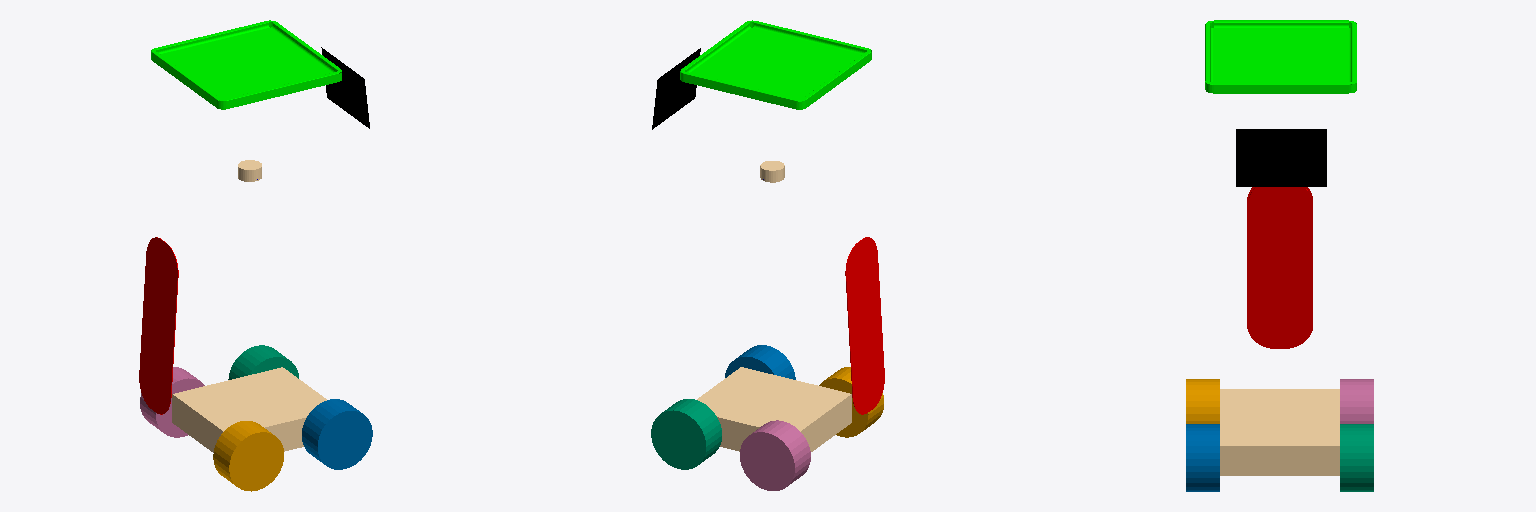
--- Facts derived from the render (not from the file) ---
The picture shows the robot from 3 angles, left to right: view 1: azimuth 30°, elevation 25°; view 2: azimuth 150°, elevation 25°; view 3: azimuth 270°, elevation 25°; orthographic projection.
Robot: cr2 — 16 links, 15 joints (4 continuous, 11 fixed); root link base_link; default pose: all joints at 0.
Visible links, largest first — view 1: tray, base_link, back_cover, wheel_RR_link, wheel_FR_link, monitor, wheel_RL_link, wheel_FL_link; view 2: tray, base_link, back_cover, wheel_RL_link, wheel_FL_link, monitor, wheel_RR_link, wheel_FR_link; view 3: tray, base_link, back_cover, monitor, wheel_RL_link, wheel_RR_link, wheel_FL_link, wheel_FR_link.
Boxes of the visible links, bbox=[...] form: tray: bbox=[151, 20, 341, 109]; base_link: bbox=[172, 367, 326, 452]; back_cover: bbox=[139, 237, 178, 414]; wheel_RR_link: bbox=[302, 399, 372, 469]; wheel_FR_link: bbox=[213, 421, 283, 491]; monitor: bbox=[321, 47, 369, 128]; wheel_RL_link: bbox=[228, 345, 298, 379]; wheel_FL_link: bbox=[140, 367, 204, 437]; tray: bbox=[680, 20, 871, 109]; base_link: bbox=[697, 367, 851, 451]; back_cover: bbox=[845, 237, 884, 414]; wheel_RL_link: bbox=[651, 399, 721, 469]; wheel_FL_link: bbox=[740, 420, 810, 490]; monitor: bbox=[652, 48, 700, 129]; wheel_RR_link: bbox=[725, 345, 795, 379]; wheel_FR_link: bbox=[819, 367, 883, 437]; tray: bbox=[1205, 20, 1356, 93]; base_link: bbox=[1220, 389, 1339, 475]; back_cover: bbox=[1247, 187, 1312, 348]; monitor: bbox=[1236, 129, 1326, 186]; wheel_RL_link: bbox=[1340, 424, 1373, 491]; wheel_RR_link: bbox=[1186, 424, 1219, 491]; wheel_FL_link: bbox=[1340, 379, 1373, 423]; wheel_FR_link: bbox=[1186, 379, 1219, 423].
Size in the robot's own frame: 0.7093 by 0.56 by 1.34 metres.
Meshes: 4 distinct files referenced, 2 mesh visuals loaded (2 binary STL); not drawn: 2 (reference not matched to a file when rendering).

robot.urdf — cr2:
<?xml version="1.0" ?>
<!-- =================================================================================== -->
<!-- |    This document was autogenerated by xacro from cr2.urdf.xacro                 | -->
<!-- |    EDITING THIS FILE BY HAND IS NOT RECOMMENDED                                 | -->
<!-- =================================================================================== -->
<robot name="cr2" xmlns:xacro="http://ros.org/wiki/xacro">
  <!-- weight of iPad mini 4 -->
  <!-- For performance purposes we temporary remove real geometry of wheels and put simple cylinders -->
  <link name="base_link">
    <visual>
      <origin rpy="1.57079632679 0 1.57079632679" xyz="0 0 0.1"/>
      <geometry>
        <box size="0.36 0.1 0.4"/>
      </geometry>
      <material name="navajo_white">
        <color rgba="1.0 0.87 0.68 1.0"/>
      </material>
    </visual>
    <collision>
      <origin rpy="1.57079632679 0 1.57079632679" xyz="0 0 0.1"/>
      <geometry>
        <box size="0.36 0.1 0.4"/>
      </geometry>
    </collision>
    <inertial>
      <origin rpy="1.57079632679 0 1.57079632679" xyz="0 0 0.1"/>
      <mass value="3"/>
      <inertia ixx="0.0425" ixy="0.0" ixz="0.0" iyy="0.0724" iyz="0.0" izz="0.0349"/>
    </inertial>
  </link>
  <link name="motor_holder_RL">
    <visual>
      <geometry>
        <cylinder length="0.025" radius="0.02"/>
      </geometry>
      <material name="blue">
        <color rgba="0.0 0.0 1.0 1.0"/>
      </material>
    </visual>
    <collision>
      <geometry>
        <cylinder length="0.025" radius="0.02"/>
      </geometry>
    </collision>
    <inertial>
      <mass value="0.088"/>
      <origin xyz="0 0 0"/>
      <inertia ixx="1.33833333333e-05" ixy="0.0" ixz="0.0" iyy="1.33833333333e-05" iyz="0.0" izz="1.76e-05"/>
    </inertial>
  </link>
  <joint name="motor_holder_base_RL_joint" type="fixed">
    <origin rpy="1.57079632679 0 0" xyz="0.16 0.1925 0.092"/>
    <parent link="base_link"/>
    <child link="motor_holder_RL"/>
  </joint>
  <link name="wheel_RL_link">
    <visual>
      <geometry>
        <cylinder length="0.1" radius="0.1"/>
      </geometry>
    </visual>
    <collision>
      <geometry>
        <cylinder length="0.1" radius="0.1"/>
      </geometry>
    </collision>
    <inertial>
      <mass value="0.1"/>
      <origin xyz="0 0 0"/>
      <inertia ixx="0.000333333333333" ixy="0.0" ixz="0.0" iyy="0.000333333333333" iyz="0.0" izz="0.0005"/>
    </inertial>
  </link>
  <joint name="wheel_motor_RL_joint" type="continuous">
    <origin rpy="0 0 0" xyz="0 0 -0.0375"/>
    <parent link="motor_holder_RL"/>
    <child link="wheel_RL_link"/>
    <axis xyz="0 0 1"/>
  </joint>
  <transmission name="wheel_transmission_RL">
    <type>transmission_interface/SimpleTransmission</type>
    <joint name="wheel_motor_RL_joint">
      <hardwareInterface>hardware_interface/VelocityJointInterface</hardwareInterface>
    </joint>
    <actuator name="wheel_motor_RL">
      <hardwareInterface>hardware_interface/VelocityJointInterface</hardwareInterface>
      <mechanicalReduction>131</mechanicalReduction>
      <motorTorqueConstant>4.4</motorTorqueConstant>
    </actuator>
  </transmission>
  <link name="motor_holder_RR">
            
    <visual>
      <geometry>
        <cylinder length="0.025" radius="0.02"/>
      </geometry>
      <material name="blue">
        <color rgba="0.0 0.0 1.0 1.0"/>
      </material>
    </visual>
    <collision>
      <geometry>
        <cylinder length="0.025" radius="0.02"/>
      </geometry>
    </collision>
    <inertial>
      <mass value="0.088"/>
      <origin xyz="0 0 0"/>
      <inertia ixx="1.33833333333e-05" ixy="0.0" ixz="0.0" iyy="1.33833333333e-05" iyz="0.0" izz="1.76e-05"/>
    </inertial>
  </link>
  <joint name="motor_holder_base_RR_joint" type="fixed">
    <origin rpy="1.57079632679 0 0" xyz="0.16 -0.1925 0.092"/>
    <parent link="base_link"/>
    <child link="motor_holder_RR"/>
  </joint>
  <link name="wheel_RR_link">
    <visual>
      <geometry>
        <cylinder length="0.1" radius="0.1"/>
      </geometry>
    </visual>
    <collision>
      <geometry>
        <cylinder length="0.1" radius="0.1"/>
      </geometry>
    </collision>
    <inertial>
      <mass value="0.1"/>
      <origin xyz="0 0 0"/>
      <inertia ixx="0.000333333333333" ixy="0.0" ixz="0.0" iyy="0.000333333333333" iyz="0.0" izz="0.0005"/>
    </inertial>
  </link>
  <joint name="wheel_motor_RR_joint" type="continuous">
    <origin rpy="0 0 0" xyz="0 0 0.0375"/>
    <parent link="motor_holder_RR"/>
    <child link="wheel_RR_link"/>
    <axis xyz="0 0 1"/>
  </joint>
  <transmission name="wheel_transmission_RR">
    <type>transmission_interface/SimpleTransmission</type>
    <joint name="wheel_motor_RR_joint">
      <hardwareInterface>hardware_interface/VelocityJointInterface</hardwareInterface>
    </joint>
    <actuator name="wheel_motor_RR">
      <hardwareInterface>hardware_interface/VelocityJointInterface</hardwareInterface>
      <mechanicalReduction>131</mechanicalReduction>
      <motorTorqueConstant>4.4</motorTorqueConstant>
    </actuator>
  </transmission>
  <link name="motor_holder_FL">
            
    <visual>
      <geometry>
        <cylinder length="0.025" radius="0.02"/>
      </geometry>
      <material name="blue">
        <color rgba="0.0 0.0 1.0 1.0"/>
      </material>
    </visual>
    <collision>
      <geometry>
        <cylinder length="0.025" radius="0.02"/>
      </geometry>
    </collision>
    <inertial>
      <mass value="0.088"/>
      <origin xyz="0 0 0"/>
      <inertia ixx="1.33833333333e-05" ixy="0.0" ixz="0.0" iyy="1.33833333333e-05" iyz="0.0" izz="1.76e-05"/>
    </inertial>
  </link>
  <joint name="motor_holder_base_FL_joint" type="fixed">
    <origin rpy="1.57079632679 0 0" xyz="-0.16 0.1925 0.092"/>
    <parent link="base_link"/>
    <child link="motor_holder_FL"/>
  </joint>
  <link name="wheel_FL_link">
    <visual>
      <geometry>
        <cylinder length="0.1" radius="0.1"/>
      </geometry>
    </visual>
    <collision>
      <geometry>
        <cylinder length="0.1" radius="0.1"/>
      </geometry>
    </collision>
    <inertial>
      <mass value="0.1"/>
      <origin xyz="0 0 0"/>
      <inertia ixx="0.000333333333333" ixy="0.0" ixz="0.0" iyy="0.000333333333333" iyz="0.0" izz="0.0005"/>
    </inertial>
  </link>
  <joint name="wheel_motor_FL_joint" type="continuous">
    <origin rpy="0 0 0" xyz="0 0 -0.0375"/>
    <parent link="motor_holder_FL"/>
    <child link="wheel_FL_link"/>
    <axis xyz="0 0 1"/>
  </joint>
  <transmission name="wheel_transmission_FL">
    <type>transmission_interface/SimpleTransmission</type>
    <joint name="wheel_motor_FL_joint">
      <hardwareInterface>hardware_interface/VelocityJointInterface</hardwareInterface>
    </joint>
    <actuator name="wheel_motor_FL">
      <hardwareInterface>hardware_interface/VelocityJointInterface</hardwareInterface>
      <mechanicalReduction>131</mechanicalReduction>
      <motorTorqueConstant>4.4</motorTorqueConstant>
    </actuator>
  </transmission>
  <link name="motor_holder_FR">
    &gt;
            
    <visual>
      <geometry>
        <cylinder length="0.025" radius="0.02"/>
      </geometry>
      <material name="blue">
        <color rgba="0.0 0.0 1.0 1.0"/>
      </material>
    </visual>
    <collision>
      <geometry>
        <cylinder length="0.025" radius="0.02"/>
      </geometry>
    </collision>
    <inertial>
      <mass value="0.088"/>
      <origin xyz="0 0 0"/>
      <inertia ixx="1.33833333333e-05" ixy="0.0" ixz="0.0" iyy="1.33833333333e-05" iyz="0.0" izz="1.76e-05"/>
    </inertial>
  </link>
  <joint name="motor_holder_base_FR_joint" type="fixed">
    <origin rpy="1.57079632679 0 0" xyz="-0.16 -0.1925 0.092"/>
    <parent link="base_link"/>
    <child link="motor_holder_FR"/>
  </joint>
  <link name="wheel_FR_link">
    <visual>
      <geometry>
        <cylinder length="0.1" radius="0.1"/>
      </geometry>
    </visual>
    <collision>
      <geometry>
        <cylinder length="0.1" radius="0.1"/>
      </geometry>
    </collision>
    <inertial>
      <mass value="0.1"/>
      <origin xyz="0 0 0"/>
      <inertia ixx="0.000333333333333" ixy="0.0" ixz="0.0" iyy="0.000333333333333" iyz="0.0" izz="0.0005"/>
    </inertial>
  </link>
  <joint name="wheel_motor_FR_joint" type="continuous">
    <origin rpy="0 0 0" xyz="0 0 0.0375"/>
    <parent link="motor_holder_FR"/>
    <child link="wheel_FR_link"/>
    <axis xyz="0 0 1"/>
  </joint>
  <transmission name="wheel_transmission_FR">
    <type>transmission_interface/SimpleTransmission</type>
    <joint name="wheel_motor_FR_joint">
      <hardwareInterface>hardware_interface/VelocityJointInterface</hardwareInterface>
    </joint>
    <actuator name="wheel_motor_FR">
      <hardwareInterface>hardware_interface/VelocityJointInterface</hardwareInterface>
      <mechanicalReduction>131</mechanicalReduction>
      <motorTorqueConstant>4.4</motorTorqueConstant>
    </actuator>
  </transmission>
  <joint name="body_link_joint" type="fixed">
    <origin rpy="1.57079632679 0 3.14159265359" xyz="0.39 -0.36 0.03"/>
    <parent link="base_link"/>
    <child link="body"/>
  </joint>
  <link name="body">
    <visual>
      <origin rpy="0 0 0" xyz="0 0 0"/>
      <geometry>
        <mesh filename="package://cr2_description/meshes/body.STL" scale="0.0015 0.0015 0.0015"/>
      </geometry>
      <material name="red">
        <color rgba="1.0 0.0 0.0 1.0"/>
      </material>
    </visual>
    <collision>
      <origin rpy="0 0 0" xyz="0 0 0"/>
      <geometry>
        <mesh filename="package://cr2_description/meshes/body.STL" scale="0.0015 0.0015 0.0015"/>
      </geometry>
    </collision>
    <inertial>
      <origin rpy="0 1.57079632679 0" xyz="0.331 0.448 0.406"/>
      <mass value="3"/>
      <inertia ixx="0.34208" ixy="0.0" ixz="0.0" iyy="0.250937" iyz="0.0" izz="0.310265"/>
    </inertial>
  </link>
  <link name="back_cover">
    <visual>
      <origin rpy="0 0 0" xyz="0 0 0"/>
      <geometry>
        <mesh filename="package://cr2_description/meshes/back_cover.stl" scale="0.0015 0.0015 0.0015"/>
      </geometry>
      <material name="red">
        <color rgba="1.0 0.0 0.0 1.0"/>
      </material>
    </visual>
    <collision>
      <origin rpy="0 0 0" xyz="0 0 0"/>
      <geometry>
        <mesh filename="package://cr2_description/meshes/back_cover.stl" scale="0.0015 0.0015 0.0015"/>
      </geometry>
    </collision>
    <inertial>
      <origin rpy="0 0 0" xyz="0 0 0"/>
      <mass value="0.2"/>
      <inertia ixx="0.0" ixy="0.0" ixz="0.0" iyy="0.0" iyz="0.0" izz="0.0"/>
    </inertial>
  </link>
  <joint name="back_cover_joint" type="fixed">
    <origin rpy="0 1.57079632679 0.06092665" xyz="0.77 0 0.705"/>
    <parent link="body"/>
    <child link="back_cover"/>
  </joint>
  <link name="head">
    <visual>
      <origin rpy="0 0 0" xyz="0 0 0"/>
      <geometry>
        <mesh filename="package://cr2_description/meshes/head.STL" scale="0.0015 0.0015 0.0015"/>
      </geometry>
      <material name="green">
        <color rgba="0.0 1.0 0.0 1.0"/>
      </material>
    </visual>
    <collision>
      <origin rpy="0 0 0" xyz="0 0 0"/>
      <geometry>
        <mesh filename="package://cr2_description/meshes/head.STL" scale="0.0015 0.0015 0.0015"/>
      </geometry>
    </collision>
    <inertial>
      <origin rpy="0 0 0" xyz="0 0 0"/>
      <mass value="1"/>
      <inertia ixx="0.0505788333333" ixy="0.0" ixz="0.0" iyy="0.0659055" iyz="0.0" izz="0.0405468333333"/>
    </inertial>
  </link>
  <joint name="head_link_joint" type="fixed">
    <origin rpy="0 0 0" xyz="0.043 0.025 0.04"/>
    <parent link="body"/>
    <child link="head"/>
  </joint>
  <link name="tray">
    <visual>
      <origin rpy="0 0 0" xyz="0 0 0"/>
      <geometry>
        <mesh filename="package://cr2_description/meshes/tray.stl" scale="0.0015 0.0015 0.0015"/>
      </geometry>
      <material name="green">
        <color rgba="0.0 1.0 0.0 1.0"/>
      </material>
    </visual>
    <collision>
      <origin rpy="0 0 0" xyz="0 0 0"/>
      <geometry>
        <mesh filename="package://cr2_description/meshes/tray.stl" scale="0.0015 0.0015 0.0015"/>
      </geometry>
    </collision>
    <inertial>
      <origin rpy="0 0 0" xyz="0 0 0"/>
      <mass value="0.1"/>
      <inertia ixx="0.00168750833333" ixy="0.0" ixz="0.0" iyy="0.00336001666667" iyz="0.0" izz="0.00168750833333"/>
    </inertial>
  </link>
  <joint name="tray_joint" type="fixed">
    <origin rpy="0 0 0" xyz="0.725 1.25 0.665"/>
    <parent link="head"/>
    <child link="tray"/>
  </joint>
  <link name="monitor">
    <visual>
      <origin rpy="0 0 0" xyz="0 0 0"/>
      <geometry>
        <box size="0.18 0.001 0.27"/>
      </geometry>
      <material name="black">
        <color rgba="0.0 0.0 0.0 1.0"/>
      </material>
    </visual>
    <collision>
      <origin rpy="0 0 0" xyz="0 0 0"/>
      <geometry>
        <box size="0.18 0.001 0.27"/>
      </geometry>
    </collision>
    <inertial>
      <origin rpy="0 0 0" xyz="0 0 0"/>
      <mass value="0.295"/>
      <inertia ixx="0.00179214958333" ixy="0.0" ixz="0.0" iyy="0.002588625" iyz="0.0" izz="0.000796524583333"/>
    </inertial>
  </link>
  <joint name="monitor_joint" type="fixed">
    <origin rpy="0 0 1.45772297679" xyz="0.02 1.1 0.325"/>
    <parent link="head"/>
    <child link="monitor"/>
  </joint>
  <!--<xacro:pillar parent_link_name="body" position="FRONT_RIGHT" x="0.13" y="0.9032" z="0.12"/>-->
  <!--<xacro:pillar parent_link_name="body" position="RIGHT_SIDE" x="0.68"  y="0.9032" z="0.12"/>-->
  <!--<xacro:pillar parent_link_name="body" position="SIDE_LEFT"  x="0.68"     y="0.9032" z="0.61"/>-->
  <!--<xacro:pillar parent_link_name="body" position="LEFT_FRONT" x="0.13"     y="0.9032" z="0.61"/>-->
  <link name="laser_link">
    <visual>
      <geometry>
        <cylinder length="0.041" radius="0.038"/>
      </geometry>
      <material name="navajo_white">
        <color rgba="1.0 0.87 0.68 1.0"/>
      </material>
    </visual>
    <collision>
      <geometry>
        <cylinder length="0.041" radius="0.038"/>
      </geometry>
    </collision>
    <inertial>
      <mass value="0.019"/>
      <origin xyz="0 0 0"/>
      <inertia ixx="9.52058333333e-06" ixy="0.0" ixz="0.0" iyy="9.52058333333e-06" iyz="0.0" izz="1.3718e-05"/>
    </inertial>
  </link>
  <joint name="laser_base_joint" type="fixed">
    <origin rpy="1.57079632679 0 0" xyz="0.367 0.895 0.325"/>
    <parent link="head"/>
    <child link="laser_link"/>
  </joint>
  <link name="laser_oscillator">
    <visual>
      <geometry>
        <cylinder length="0.001" radius="0.038"/>
      </geometry>
      <material name="blue">
        <color rgba="0.0 0.0 1.0 1.0"/>
      </material>
    </visual>
    <collision>
      <geometry>
        <cylinder length="0.001" radius="0.038"/>
      </geometry>
    </collision>
    <inertial>
      <mass value="0.001"/>
      <origin xyz="0 0 0"/>
      <inertia ixx="3.61083333333e-07" ixy="0.0" ixz="0.0" iyy="3.61083333333e-07" iyz="0.0" izz="7.22e-07"/>
    </inertial>
  </link>
  <joint name="laser_oscillator_joint" type="fixed">
    <origin rpy="0 0 0" xyz="0 0 0.0155"/>
    <parent link="laser_link"/>
    <child link="laser_oscillator"/>
  </joint>
  <gazebo reference="laser_oscillator">
    <material>Gazebo/Green</material>
    <sensor name="laser" type="ray">
      <pose>0 0 0 0 0 0</pose>
      <visualize>false</visualize>
      <update_rate>40</update_rate>
      <ray>
        <scan>
          <horizontal>
            <!--TODO: figureout exact samples for RPLIDAR A2-->
            <samples>1081</samples>
            <resolution>1</resolution>
            <min_angle>0</min_angle>
            <max_angle>6.283185</max_angle>
          </horizontal>
        </scan>
        <range>
          <!--TODO: figureout exact min/max for RPLIDAR A2-->
          <min>0.15</min>
          <max>3.0</max>
          <!--for this dist is configured navigator-->
          <resolution>0.01</resolution>
        </range>
        <noise>
          <type>gaussian</type>
          <mean>0.0</mean>
          <stddev>0.01</stddev>
        </noise>
      </ray>
      <plugin filename="libgazebo_ros_laser.so" name="gazebo_ros_rplidar_controller">
        <!--<topicName>laser/scan</topicName>-->
        <topicName>front/scan</topicName>
        <frameName>laser_oscillator</frameName>
        <!--<frameName>front_laser</frameName>-->
      </plugin>
    </sensor>
  </gazebo>
  <!---->
  <!---->
  <!---->
  <!--ULTRASONIC-->
  <!--<xacro:ultrasonic parent_link_name="body" position="FRONT_TOP"              roll="0"              x="0.1"   y="${ultrasonic_top_margin}            " z="0.361"/>-->
  <!--<xacro:ultrasonic parent_link_name="body" position="FRONT_BOTTOM"           roll="0"              x="0.025" y="${ultrasonic_bottom_margin}         " z="0.361"/>-->
  <!--<xacro:ultrasonic parent_link_name="body" position="FRONT_BOTTOM_RIGHT"     roll="${pi + pi/1.3}" x="0.033" y="${ultrasonic_bottom_margin - 0.003} " z="0.054"/>-->
  <!--<xacro:ultrasonic parent_link_name="body" position="FRONT_BOTTOM_LEFT"      roll="${pi/4}"        x="0.035" y="${ultrasonic_bottom_margin}         " z="0.67" />-->
  <!--<xacro:ultrasonic parent_link_name="body" position="RIGHT_TOP"              roll="${pi + pi/2}"   x="0.374" y="${ultrasonic_top_margin}            " z="0.075"/>-->
  <!--<xacro:ultrasonic parent_link_name="body" position="RIGHT_BOTTOM"           roll="${pi + pi/2}"   x="0.407" y="${ultrasonic_bottom_margin  - 0.002}" z="0.035"/>-->
  <!--<xacro:ultrasonic parent_link_name="body" position="RIGHT_BOTTOM_SIDE"      roll="${pi/1.3}"      x="0.735" y="${ultrasonic_bottom_margin - 0.002} " z="0.675"/>-->
  <!--<xacro:ultrasonic parent_link_name="body" position="SIDE_TOP"               roll="${pi}"          x="0.71"  y="${ultrasonic_top_margin + 0.012}    " z="0.36" />-->
  <!--<xacro:ultrasonic parent_link_name="body" position="SIDE_BOTTOM"            roll="${pi}"          x="0.75"  y="${ultrasonic_bottom_margin}         " z="0.363"/>-->
  <!--<xacro:ultrasonic parent_link_name="body" position="SIDE_BOTTOM_LEFT"       roll="${pi + pi/4}"   x="0.732" y="${ultrasonic_bottom_margin + 0.006} " z="0.055"/>-->
  <!--<xacro:ultrasonic parent_link_name="body" position="LEFT_TOP"               roll="${pi/2}"        x="0.372" y="${ultrasonic_top_margin}            " z="0.65" />-->
  <!--<xacro:ultrasonic parent_link_name="body" position="LEFT_BOTTOM"            roll="${pi/2}"        x="0.407" y="${ultrasonic_bottom_margin}         " z="0.685"/>-->
  <!---->
  <!---->
  <!---->
  <!--RANGE SENSOR-->
  <!--<xacro:range_sensor parent_link_name="head" position="FRONT_FIRST"          roll="0"              x="0.13"  y="${range_sensor_margin}         " z="0.5"/>-->
  <!--<xacro:range_sensor parent_link_name="head" position="FRONT_SECOND"         roll="0"              x="0.13"  y="${range_sensor_margin}         " z="0.325"/>-->
  <!--<xacro:range_sensor parent_link_name="head" position="FRONT_THIRD"          roll="0"              x="0.13"  y="${range_sensor_margin}         " z="0.15"/>-->
  <!--<xacro:range_sensor parent_link_name="head" position="RIGHT_FIRST"          roll="${pi/2}"        x="0.2"   y="${range_sensor_margin}         " z="0.075"/>-->
  <!--<xacro:range_sensor parent_link_name="head" position="RIGHT_SECOND"         roll="${pi/2}"        x="0.38"  y="${range_sensor_margin}         " z="0.075"/>-->
  <!--<xacro:range_sensor parent_link_name="head" position="RIGHT_THIRD"          roll="${pi/2}"        x="0.55"  y="${range_sensor_margin}         " z="0.075"/>-->
  <!--<xacro:range_sensor parent_link_name="head" position="SIDE_FIRST"           roll="0"              x="0.63"  y="${range_sensor_margin}         " z="0.5"/>-->
  <!--<xacro:range_sensor parent_link_name="head" position="SIDE_SECOND"          roll="0"              x="0.63"  y="${range_sensor_margin}         " z="0.325"/>-->
  <!--<xacro:range_sensor parent_link_name="head" position="SIDE_THIRD"           roll="0"              x="0.63"  y="${range_sensor_margin}         " z="0.15"/>-->
  <!--<xacro:range_sensor parent_link_name="head" position="LEFT_FIRST"           roll="${pi/2}"        x="0.2"   y="${range_sensor_margin}         " z="0.572"/>-->
  <!--<xacro:range_sensor parent_link_name="head" position="LEFT_SECOND"          roll="${pi/2}"        x="0.36"  y="${range_sensor_margin}         " z="0.572"/>-->
  <!--<xacro:range_sensor parent_link_name="head" position="LEFT_THIRD"           roll="${pi/2}"        x="0.55"  y="${range_sensor_margin}         " z="0.572"/>-->
  <!---->
  <!---->
  <gazebo>
    <plugin filename="libgazebo_ros_control.so" name="gazebo_ros_control">
      <robotNamespace>/</robotNamespace>
    </plugin>
    <plugin filename="libridgeback_ros_force_based_move.so" name="ridgeback_ros_force_based_move">
      <robotNamespace>/</robotNamespace>
      <commandTopic>cmd_vel</commandTopic>
      <odometryTopic>odom</odometryTopic>
      <odometryFrame>odom</odometryFrame>
      <odometryRate>25.0</odometryRate>
      <robotBaseFrame>base_link</robotBaseFrame>
      <cmdVelTimeOut>0.25</cmdVelTimeOut>
      <!-- Don't publish a transform: the controller does it. -->
      <publishOdometryTf>0</publishOdometryTf>
      <yaw_velocity_p_gain>500.0</yaw_velocity_p_gain>
      <x_velocity_p_gain>10000.0</x_velocity_p_gain>
      <y_velocity_p_gain>10000.0</y_velocity_p_gain>
    </plugin>
    <!--<plugin name="imu_controller" filename="libhector_gazebo_ros_imu.so">-->
    <!--<robotNamespace>/</robotNamespace>-->
    <!--<updateRate>50.0</updateRate>-->
    <!--<bodyName>imu_link</bodyName>-->
    <!--<topicName>imu/data</topicName>-->
    <!--<accelDrift>0.005 0.005 0.005</accelDrift>-->
    <!--<accelGaussianNoise>0.005 0.005 0.005</accelGaussianNoise>-->
    <!--<rateDrift>0.00005 0.00005 0.00005</rateDrift>-->
    <!--<rateGaussianNoise>0.00005 0.00005 0.00005</rateGaussianNoise>-->
    <!--<headingDrift>0.005</headingDrift>-->
    <!--<headingGaussianNoise>0.005</headingGaussianNoise>-->
    <!--</plugin>-->
    <!--ALLSO BAD EGG - need more efforts-->
    <!--<plugin name="gazebo_ros_joint_state_publisher" filename="libgazebo_ros_joint_state_publisher.so">-->
    <!--<jointName>wheel_FL_link</jointName>-->
    <!--<robotNamespace>/</robotNamespace>-->
    <!--<updateRate>50.0</updateRate>-->
    <!--</plugin>-->
  </gazebo>
  <!-- ///////////////////////-->
  <!-- Mechanum wheels chassis-->
  <!-- ///////////////////////-->
  <gazebo reference="base_link">
    <!--<mu1 value="1.0"/>-->
    <!--<mu2 value="1.0"/>-->
    <!--<kp value="10000000.0"/>-->
    <!--<kd value="1.0"/>-->
    <material>Gazebo/White</material>
    <gravity>true</gravity>
  </gazebo>
  <!--<gazebo reference="FL_wheel_link">-->
  <!--<mu1 value="0.0"/>-->
  <!--<mu2 value="0.0"/>-->
  <!--<kp value="10000000.0"/>-->
  <!--<kd value="1.0"/>-->
  <!--<material>Gazebo/Blue</material>-->
  <!--</gazebo>-->
  <!--<gazebo reference="FR_wheel_link">-->
  <!--<mu1 value="0.0"/>-->
  <!--<mu2 value="0.0"/>-->
  <!--<kp value="10000000.0"/>-->
  <!--<kd value="1.0"/>-->
  <!--<material>Gazebo/Blue</material>-->
  <!--</gazebo>-->
  <!--<gazebo reference="RL_wheel_link">-->
  <!--<mu1 value="0.0"/>-->
  <!--<mu2 value="0.0"/>-->
  <!--<kp value="10000000.0"/>-->
  <!--<kd value="1.0"/>-->
  <!--<material>Gazebo/Blue</material>-->
  <!--</gazebo>-->
  <!--<gazebo reference="RR_wheel_link">-->
  <!--<mu1 value="0.0"/>-->
  <!--<mu2 value="0.0"/>-->
  <!--<kp value="10000000.0"/>-->
  <!--<kd value="1.0"/>-->
  <!--<material>Gazebo/Blue</material>-->
  <!--</gazebo>-->
  <gazebo reference="wheel_FL_link">
    <mu1 value="0.0"/>
    <mu2 value="0.0"/>
    <kp value="10000000.0"/>
    <kd value="1.0"/>
    <material>Gazebo/Blue</material>
  </gazebo>
  <gazebo reference="wheel_FR_link">
    <mu1 value="0.0"/>
    <mu2 value="0.0"/>
    <kp value="10000000.0"/>
    <kd value="1.0"/>
    <material>Gazebo/Blue</material>
  </gazebo>
  <gazebo reference="wheel_RL_link">
    <mu1 value="0.0"/>
    <mu2 value="0.0"/>
    <kp value="10000000.0"/>
    <kd value="1.0"/>
    <material>Gazebo/Blue</material>
  </gazebo>
  <gazebo reference="wheel_RR_link">
    <mu1 value="0.0"/>
    <mu2 value="0.0"/>
    <kp value="10000000.0"/>
    <kd value="1.0"/>
    <material>Gazebo/Blue</material>
  </gazebo>
  <gazebo reference="motor_holder_base_RL_joint">
    <mu1 value="1.0"/>
    <mu2 value="1.0"/>
    <kp value="10000000.0"/>
    <kd value="1.0"/>
    <material>Gazebo/Red</material>
  </gazebo>
  <gazebo reference="motor_holder_RL">
    <mu1 value="1.0"/>
    <mu2 value="1.0"/>
    <kp value="10000000.0"/>
    <kd value="1.0"/>
    <material>Gazebo/Red</material>
  </gazebo>
  <gazebo reference="wheel_motor_RL_joint">
    <mu1 value="1.0"/>
    <mu2 value="1.0"/>
    <kp value="10000000.0"/>
    <kd value="1.0"/>
    <material>Gazebo/Red</material>
  </gazebo>
  <!--<gazebo reference="motor_holder_base_RL_joint">-->
  <!--<mu1 value="1.0"/>-->
  <!--<mu2 value="1.0"/>-->
  <!--<kp value="10000000.0"/>-->
  <!--<kd value="1.0"/>-->
  <!--<material>Gazebo/Red</material>-->
  <!--</gazebo>-->
  <!--<gazebo reference="motor_RR_holder">-->
  <!--<mu1 value="1.0"/>-->
  <!--<mu2 value="1.0"/>-->
  <!--<kp value="10000000.0"/>-->
  <!--<kd value="1.0"/>-->
  <!--<material>Gazebo/Red</material>-->
  <!--</gazebo>-->
  <!--<gazebo reference="motor_RR_holder">-->
  <!--<mu1 value="1.0"/>-->
  <!--<mu2 value="1.0"/>-->
  <!--<kp value="10000000.0"/>-->
  <!--<kd value="1.0"/>-->
  <!--<material>Gazebo/Red</material>-->
  <!--</gazebo>-->
  <!--<gazebo reference="motor_RR_holder">-->
  <!--<mu1 value="1.0"/>-->
  <!--<mu2 value="1.0"/>-->
  <!--<kp value="10000000.0"/>-->
  <!--<kd value="1.0"/>-->
  <!--<material>Gazebo/Red</material>-->
  <!--</gazebo>-->
  <!--<gazebo reference="motor_FL_holder">-->
  <!--<mu1 value="1.0"/>-->
  <!--<mu2 value="1.0"/>-->
  <!--<kp value="10000000.0"/>-->
  <!--<kd value="1.0"/>-->
  <!--<material>Gazebo/Red</material>-->
  <!--</gazebo>-->
  <!--<gazebo reference="motor_RL_holder">-->
  <!--<mu1 value="1.0"/>-->
  <!--<mu2 value="1.0"/>-->
  <!--<kp value="10000000.0"/>-->
  <!--<kd value="1.0"/>-->
  <!--<material>Gazebo/Red</material>-->
  <!--</gazebo>-->
  <!--<gazebo reference="motor_RR_holder">-->
  <!--<mu1 value="1.0"/>-->
  <!--<mu2 value="1.0"/>-->
  <!--<kp value="10000000.0"/>-->
  <!--<kd value="1.0"/>-->
  <!--<material>Gazebo/Red</material>-->
  <!--</gazebo>-->
  <!--<gazebo reference="FR_motor_holder">-->
  <!--<mu1 value="1.0"/>-->
  <!--<mu2 value="1.0"/>-->
  <!--<kp value="10000000.0"/>-->
  <!--<kd value="1.0"/>-->
  <!--<material>Gazebo/Red</material>-->
  <!--</gazebo>-->
  <!--<gazebo reference="FL_motor_holder">-->
  <!--<mu1 value="1.0"/>-->
  <!--<mu2 value="1.0"/>-->
  <!--<kp value="10000000.0"/>-->
  <!--<kd value="1.0"/>-->
  <!--<material>Gazebo/Red</material>-->
  <!--</gazebo>-->
  <!--<gazebo reference="RL_motor_holder">-->
  <!--<mu1 value="1.0"/>-->
  <!--<mu2 value="1.0"/>-->
  <!--<kp value="10000000.0"/>-->
  <!--<kd value="1.0"/>-->
  <!--<material>Gazebo/Red</material>-->
  <!--</gazebo>-->
  <!--<gazebo reference="RR_motor_holder">-->
  <!--<mu1 value="1.0"/>-->
  <!--<mu2 value="1.0"/>-->
  <!--<kp value="10000000.0"/>-->
  <!--<kd value="1.0"/>-->
  <!--<material>Gazebo/Red</material>-->
  <!--</gazebo>-->
  <!--&lt;!&ndash; ///////////////////////&ndash;&gt;-->
  <!--&lt;!&ndash;          Body          &ndash;&gt;-->
  <!--&lt;!&ndash; ///////////////////////&ndash;&gt;-->
  <!--<gazebo reference="body">-->
  <!--<mu1 value="1.0"/>-->
  <!--<mu2 value="1.0"/>-->
  <!--<kp value="10000000.0"/>-->
  <!--<kd value="1.0"/>-->
  <!--<material>Gazebo/White</material>-->
  <!--</gazebo>-->
  <!--<gazebo reference="back_cover">-->
  <!--<mu1 value="1.0"/>-->
  <!--<mu2 value="1.0"/>-->
  <!--<kp value="10000000.0"/>-->
  <!--<kd value="1.0"/>-->
  <!--<material>Gazebo/White</material>-->
  <!--</gazebo>-->
  <!--&lt;!&ndash; ///////////////////////&ndash;&gt;-->
  <!--&lt;!&ndash;          Head          &ndash;&gt;-->
  <!--&lt;!&ndash; ///////////////////////&ndash;&gt;-->
  <!--<gazebo reference="head">-->
  <!--<mu1 value="1.0"/>-->
  <!--<mu2 value="1.0"/>-->
  <!--<kp value="10000000.0"/>-->
  <!--<kd value="1.0"/>-->
  <!--<material>Gazebo/White</material>-->
  <!--</gazebo>-->
  <!--<gazebo reference="tray">-->
  <!--<mu1 value="1.0"/>-->
  <!--<mu2 value="1.0"/>-->
  <!--<kp value="10000000.0"/>-->
  <!--<kd value="1.0"/>-->
  <!--<material>Gazebo/White</material>-->
  <!--</gazebo>-->
  <!--<gazebo reference="monitor">-->
  <!--<mu1 value="1.0"/>-->
  <!--<mu2 value="1.0"/>-->
  <!--<kp value="10000000.0"/>-->
  <!--<kd value="1.0"/>-->
  <!--<material>Gazebo/White</material>-->
  <!--</gazebo>-->
  <!--THIS ONE IS BEING SKIPPED!!! (by parser)-->
  <!-- This is an wheel-level solution to possibly revisit at a future date. -->
  <!--<gazebo>-->
  <!--<rosparam param="/gazebo_ros_control/pid_gains">-->
  <!--wheel_motor_FL_joint:-->
  <!--p: 1-->
  <!--i: 0.1-->
  <!--d: 0-->
  <!--wheel_motor_FR_joint:-->
  <!--p: 1-->
  <!--i: 0.1-->
  <!--d: 0-->
  <!--wheel_motor_RL_joint:-->
  <!--p: 1-->
  <!--i: 0.1-->
  <!--d: 0-->
  <!--wheel_motor_RR_joint:-->
  <!--p: 1-->
  <!--i: 0.1-->
  <!--d: 0-->
  <!--</rosparam>-->
  <!--</gazebo>-->
  <!---->
  <!--ULTRASONIC-->
  <!--<xacro:ultrasonic_gazebo position="FRONT_TOP"/>-->
  <!--<xacro:ultrasonic_gazebo position="FRONT_BOTTOM"/>-->
  <!--<xacro:ultrasonic_gazebo position="FRONT_BOTTOM_LEFT"/>-->
  <!--<xacro:ultrasonic_gazebo position="FRONT_BOTTOM_RIGHT"/>-->
  <!--<xacro:ultrasonic_gazebo position="RIGHT_TOP"/>-->
  <!--<xacro:ultrasonic_gazebo position="RIGHT_BOTTOM"/>-->
  <!--<xacro:ultrasonic_gazebo position="RIGHT_BOTTOM_SIDE"/>-->
  <!--<xacro:ultrasonic_gazebo position="SIDE_TOP"/>-->
  <!--<xacro:ultrasonic_gazebo position="SIDE_BOTTOM"/>-->
  <!--<xacro:ultrasonic_gazebo position="SIDE_BOTTOM_LEFT"/>-->
  <!--<xacro:ultrasonic_gazebo position="LEFT_TOP"/>-->
  <!--<xacro:ultrasonic_gazebo position="LEFT_BOTTOM"/>-->
  <!---->
  <!---->
  <!---->
  <!--RANGE SENSOR-->
  <!--<xacro:range_sensor_gazebo position="FRONT_FIRST"/>-->
  <!--<xacro:range_sensor_gazebo position="FRONT_SECOND"/>-->
  <!--<xacro:range_sensor_gazebo position="FRONT_THIRD"/>-->
  <!--<xacro:range_sensor_gazebo position="RIGHT_FIRST"/>-->
  <!--<xacro:range_sensor_gazebo position="RIGHT_SECOND"/>-->
  <!--<xacro:range_sensor_gazebo position="RIGHT_THIRD"/>-->
  <!--<xacro:range_sensor_gazebo position="SIDE_FIRST"/>-->
  <!--<xacro:range_sensor_gazebo position="SIDE_SECOND"/>-->
  <!--<xacro:range_sensor_gazebo position="SIDE_THIRD"/>-->
  <!--<xacro:range_sensor_gazebo position="LEFT_FIRST"/>-->
  <!--<xacro:range_sensor_gazebo position="LEFT_SECOND"/>-->
  <!--<xacro:range_sensor_gazebo position="LEFT_THIRD"/>-->
  <!---->
  <!---->
</robot>
